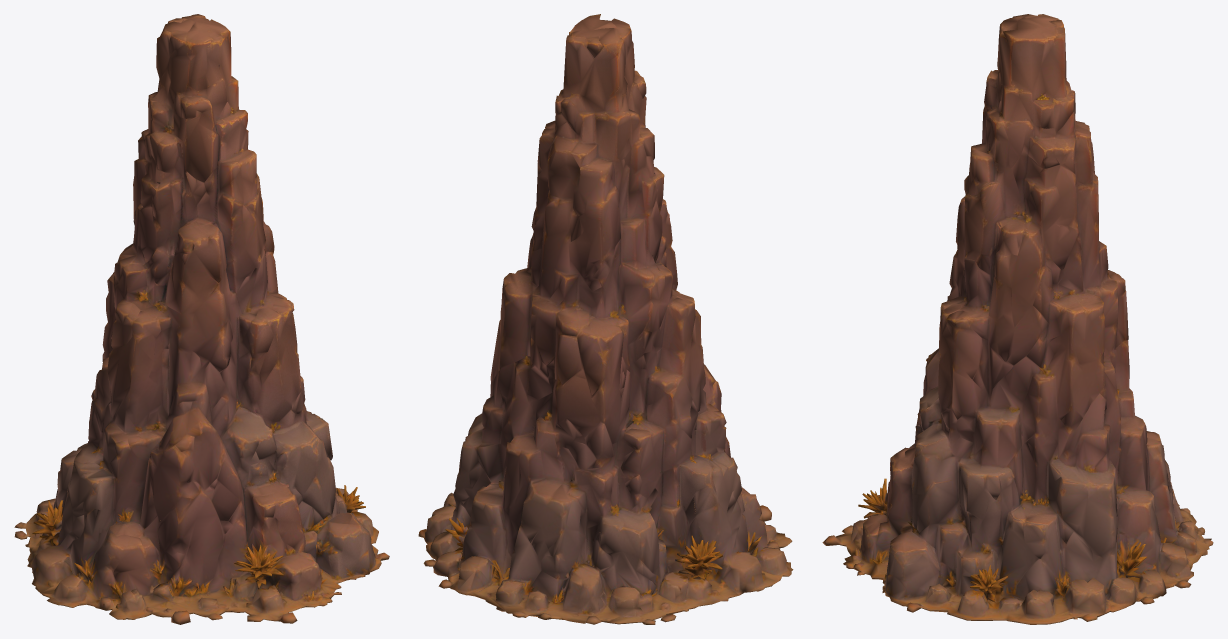
The model's file is formacion_rocosa.glb.
3 renders of one model, left to right at view 1: azimuth 30°, elevation 25°; view 2: azimuth 150°, elevation 25°; view 3: azimuth 270°, elevation 25°, orthographic.
Visible parts, largest first — view 1: formacion_rocosa; view 2: formacion_rocosa; view 3: formacion_rocosa.
Boxes of the visible parts, bbox=[...] form: formacion_rocosa: bbox=[14, 14, 389, 624]; formacion_rocosa: bbox=[418, 14, 793, 624]; formacion_rocosa: bbox=[822, 14, 1213, 624].
Size of what is drawn, in the model's own units: 2.3 by 3.5 by 2.36.
Materials: 1 (1 with a texture image).
